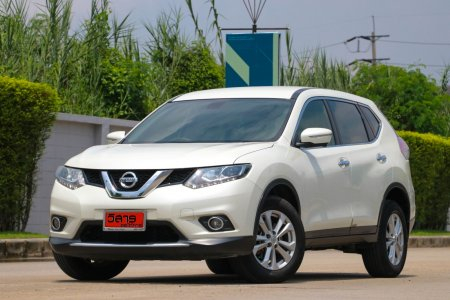pickup: (48, 85, 417, 282)
